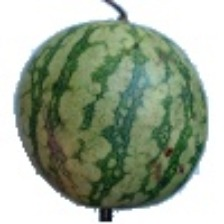watermelon: (39, 33, 176, 208)
